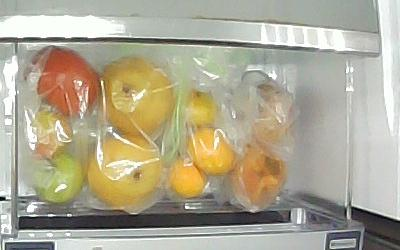peach_vinyl: (231, 144, 286, 205), (250, 86, 293, 146)
pear_vinyl: (100, 56, 174, 136), (89, 135, 163, 207)
tangerine_vinyl: (187, 128, 237, 173), (169, 156, 208, 199), (185, 90, 217, 128)
tomato_vinyl: (29, 46, 99, 117), (30, 148, 83, 203), (35, 111, 74, 161)
